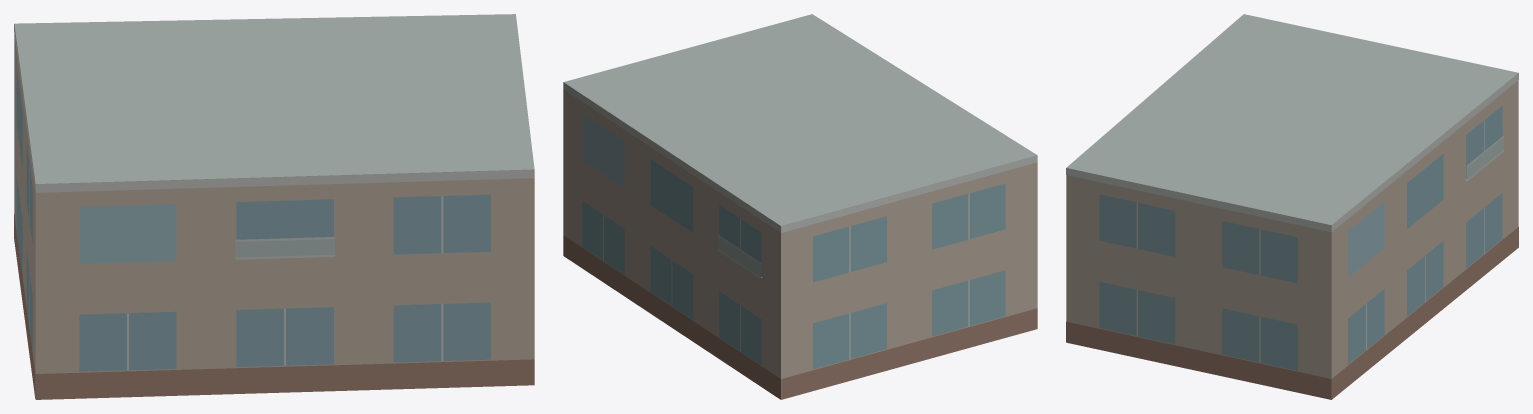
File: survey-upis-32891280.glb
3 renders of one model, left to right at view 1: azimuth 30°, elevation 25°; view 2: azimuth 150°, elevation 25°; view 3: azimuth 270°, elevation 25°, orthographic. The views are drawn at different scales.
Visible parts, largest first — view 1: survey-upis-32891280.tmp; view 2: survey-upis-32891280.tmp; view 3: survey-upis-32891280.tmp.
Boxes of the visible parts, bbox=[...] form: survey-upis-32891280.tmp: bbox=[14, 14, 534, 399]; survey-upis-32891280.tmp: bbox=[563, 14, 1037, 399]; survey-upis-32891280.tmp: bbox=[1066, 14, 1518, 399].
Size of the model in its own units: 15.56 by 6 by 14.1.
